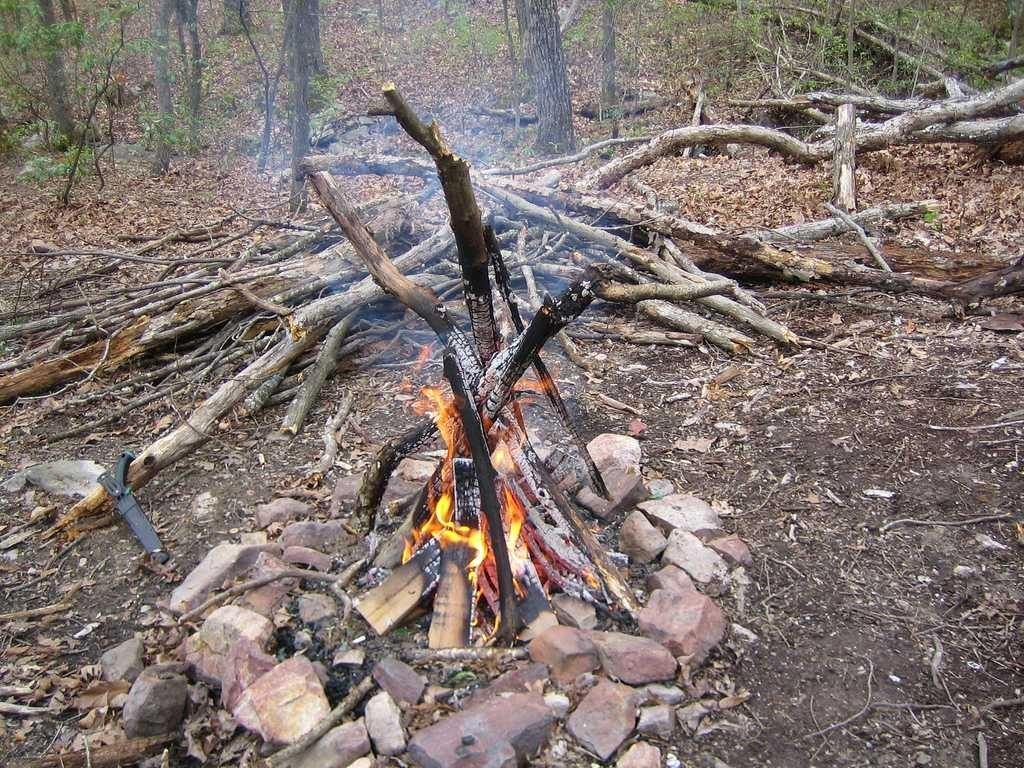fire: (497, 492, 536, 560), (420, 387, 458, 444), (428, 530, 484, 548)
